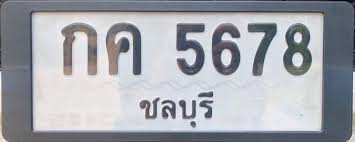txt01: (59, 21, 100, 77)
txt03: (104, 21, 143, 77)
